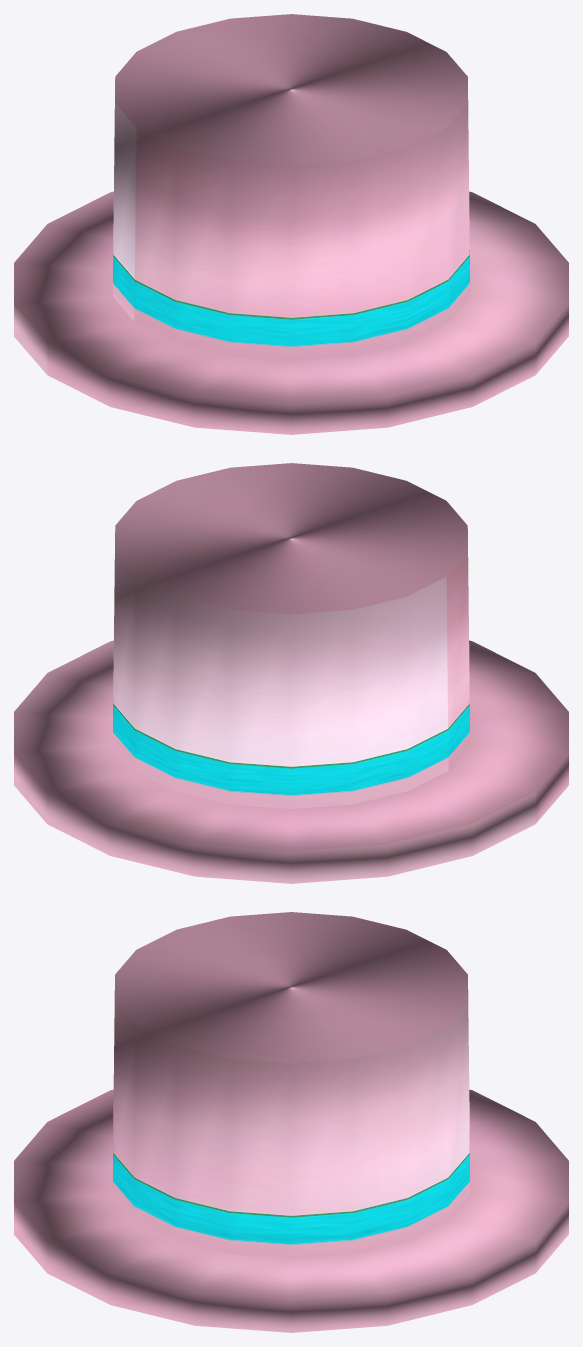
File: Hat_02.fbx
3 renders of one model, top to bottom at view 1: azimuth 30°, elevation 25°; view 2: azimuth 150°, elevation 25°; view 3: azimuth 270°, elevation 25°, orthographic.
Parts seen in each view (by area): view 1: hat2; view 2: hat2; view 3: hat2.
Part boxes in pixels (left/top/right/bottom): hat2: left=14, top=14, right=568, bottom=434; hat2: left=14, top=463, right=568, bottom=883; hat2: left=14, top=912, right=568, bottom=1332.
Bounding box in the file's own units: 196 × 86.95 × 193.
